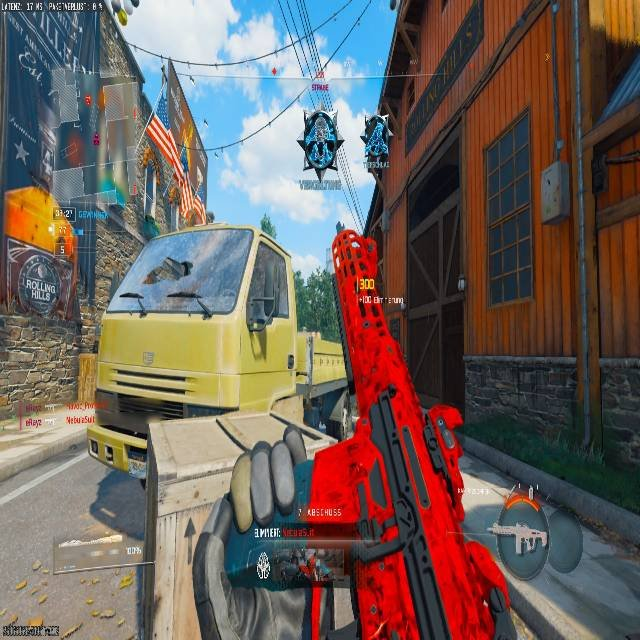player: (296, 105, 341, 181)
